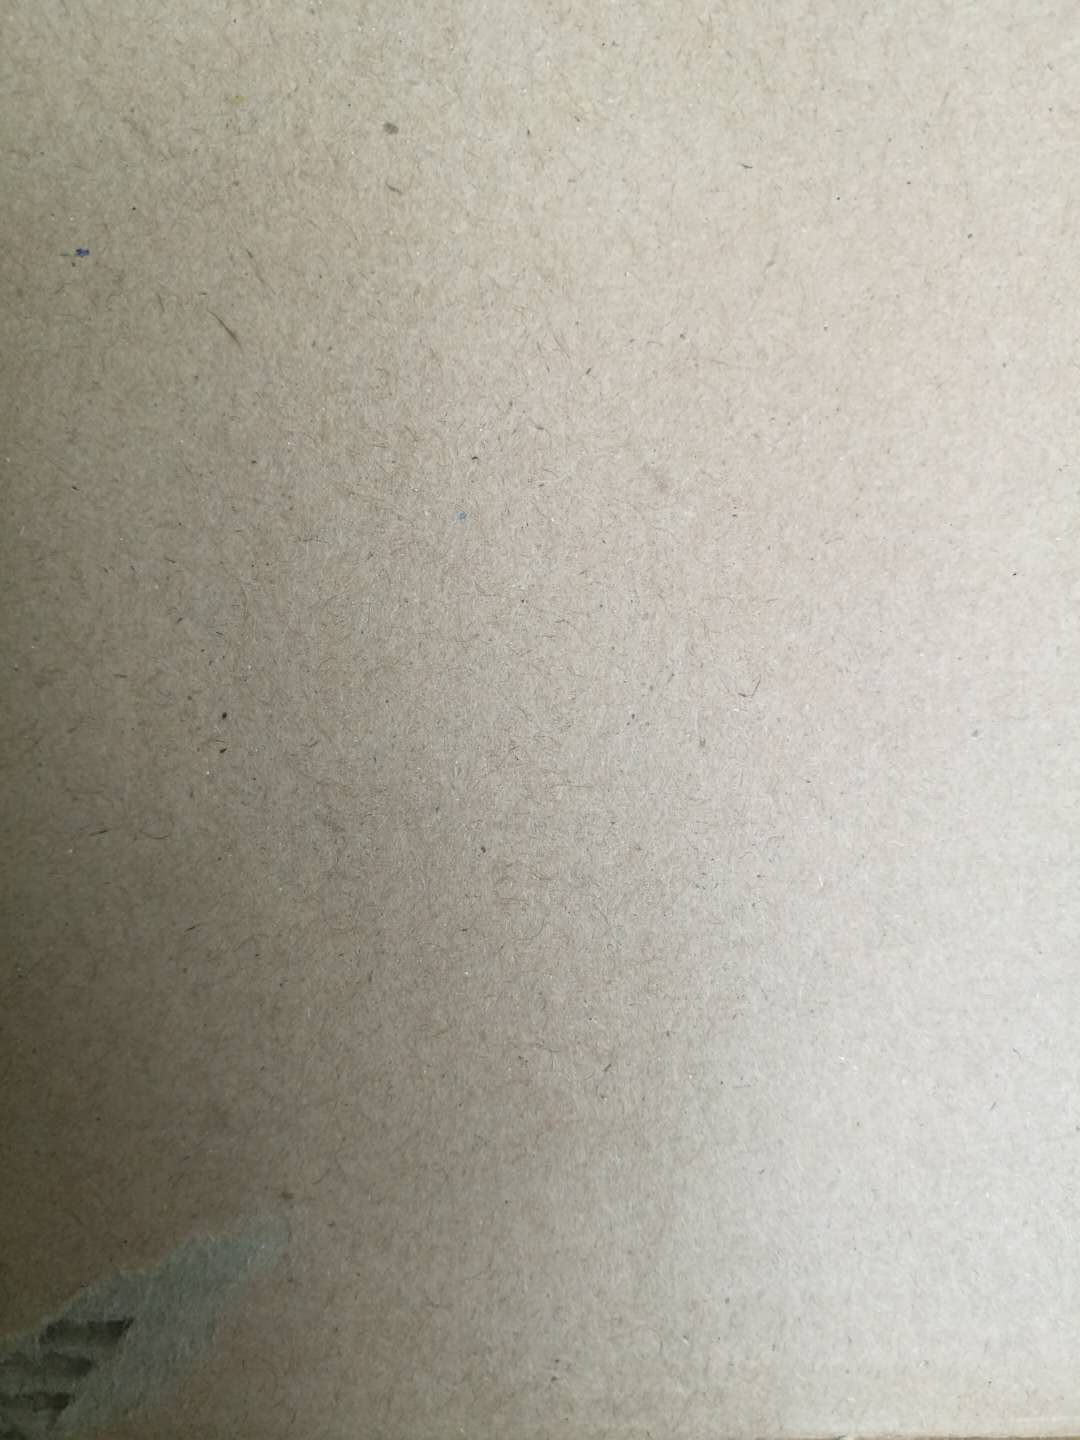defect: (3, 1184, 338, 1440)
